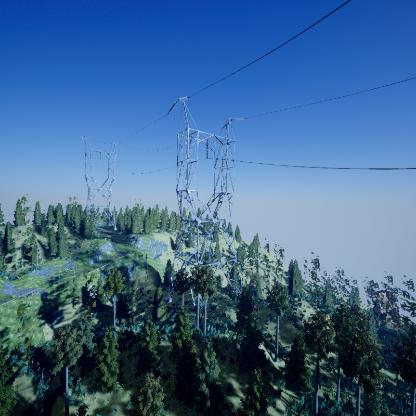tower: (164, 96, 251, 324), (78, 133, 123, 232)
